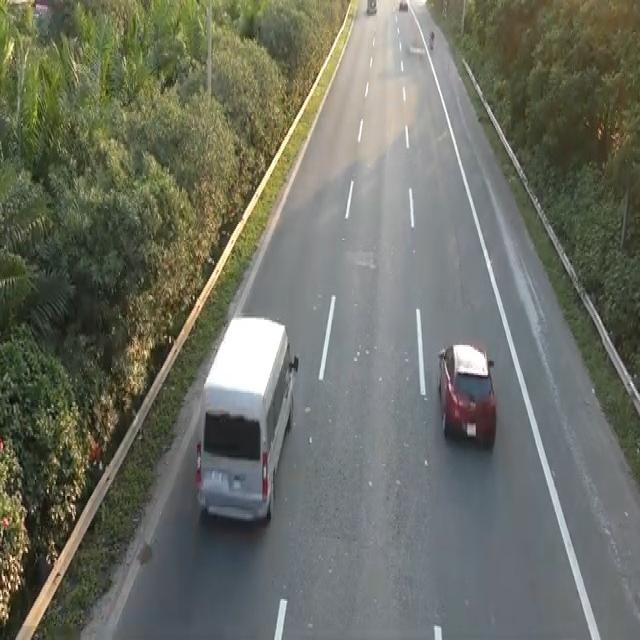bus: (436, 340, 498, 448)
jeep: (194, 311, 299, 526)
minibus: (428, 28, 435, 50)
